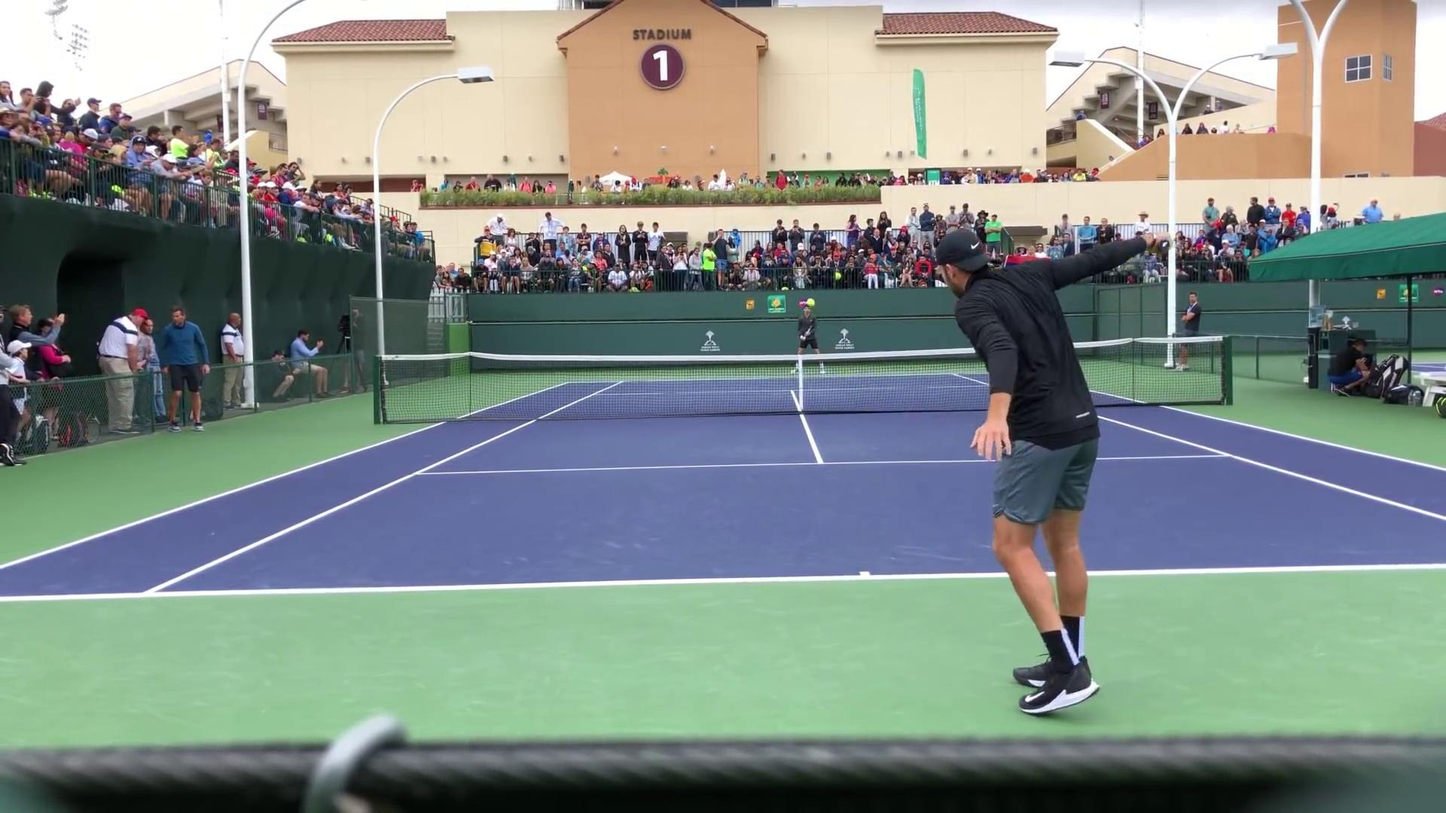ball: (804, 297, 815, 308), (458, 452, 461, 457)
